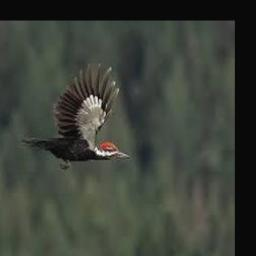Woodpecker: (21, 63, 130, 170)
